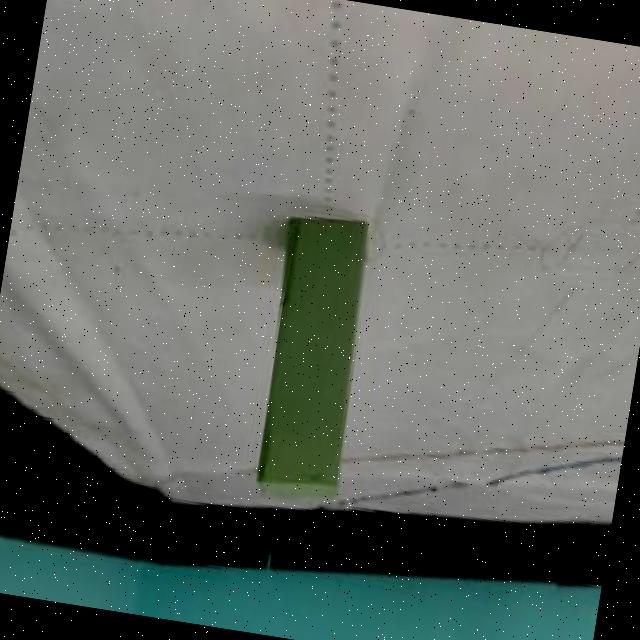greenbox: (243, 209, 384, 514)
